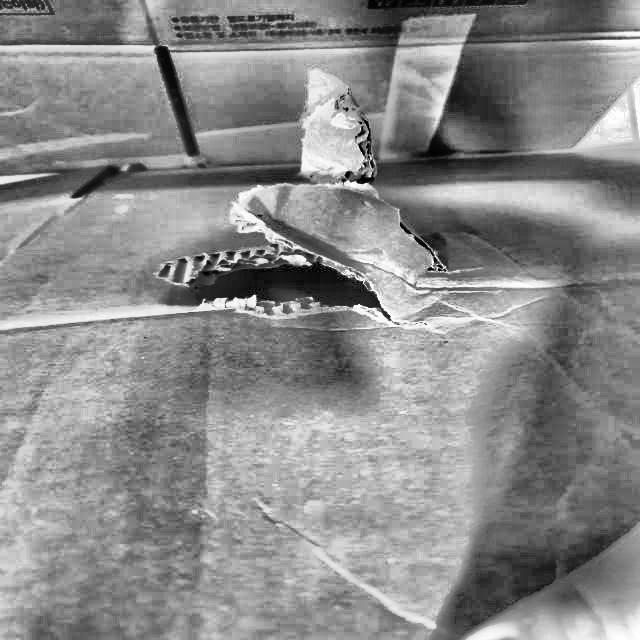box: (0, 66, 639, 639)
hole: (171, 211, 453, 325)
